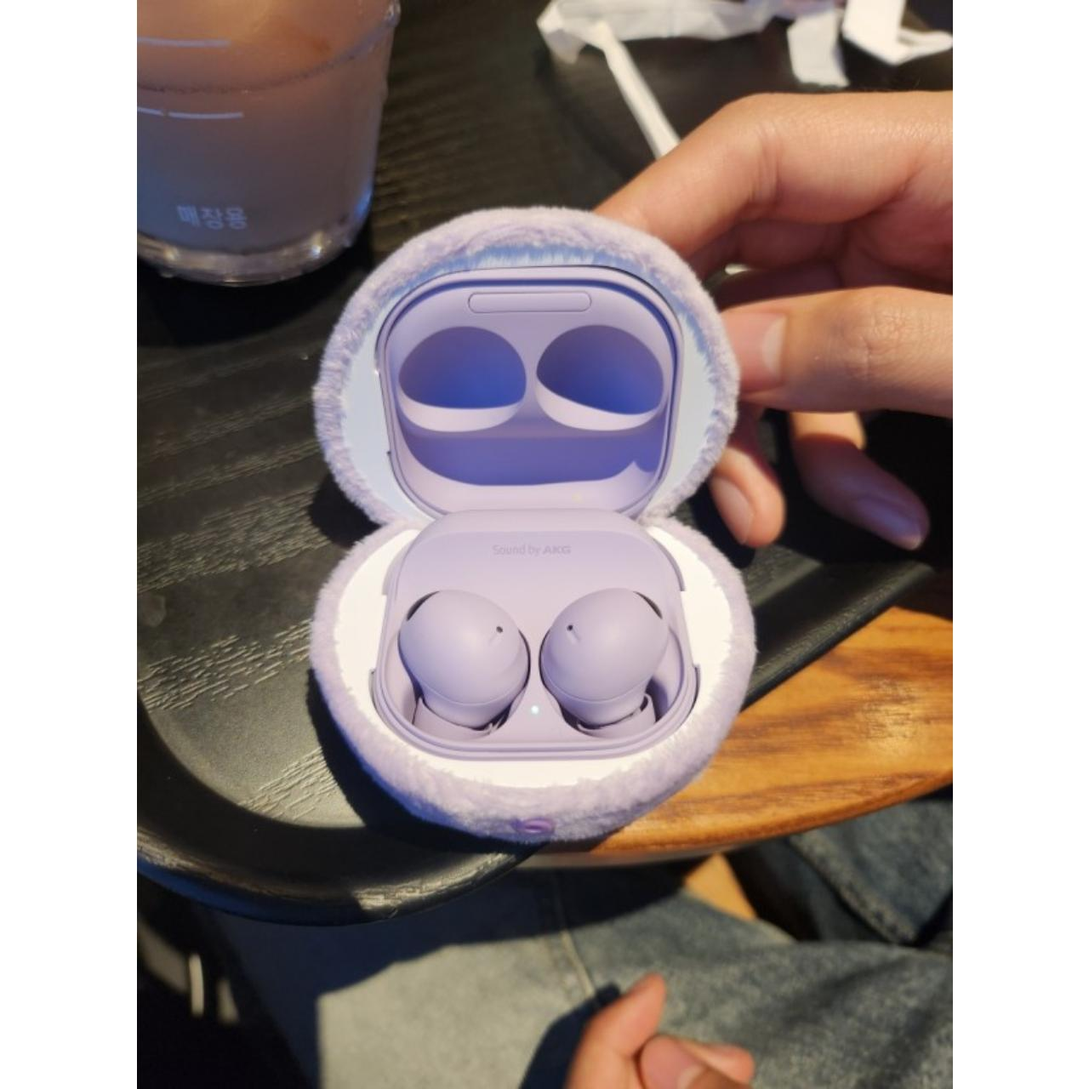Buds: (288, 194, 759, 873)
Buds_Units: (389, 573, 533, 748), (536, 579, 682, 741)
